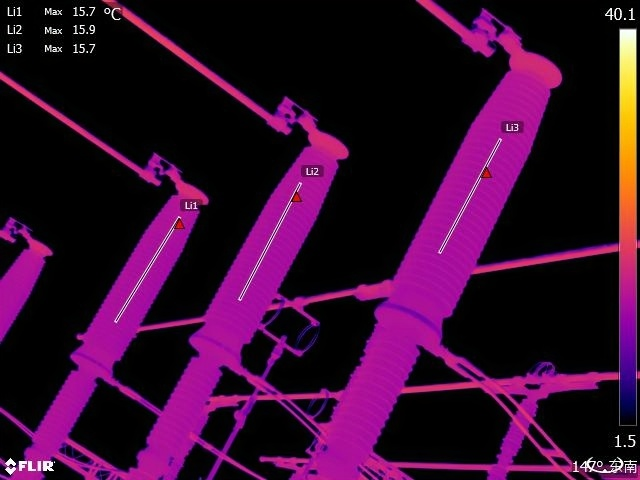circuit breaker: (295, 29, 568, 480), (129, 106, 370, 480), (16, 159, 219, 480), (1, 220, 58, 354)
post insulator: (490, 398, 540, 480)
